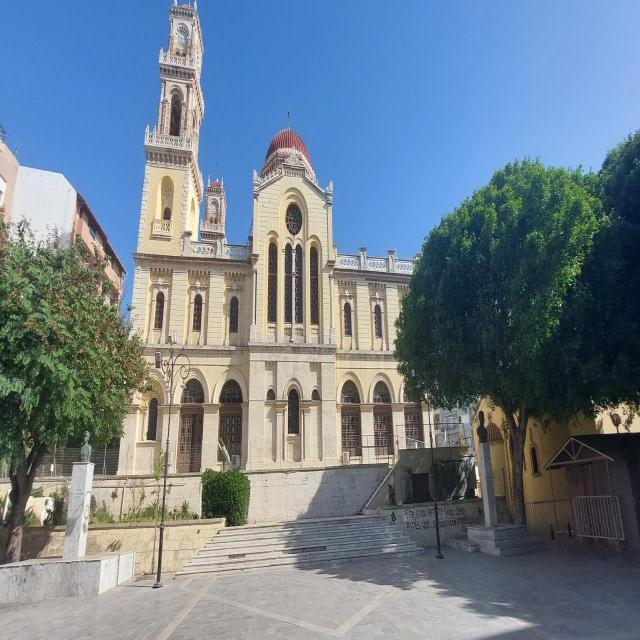Agios Minas: (119, 1, 437, 458)
